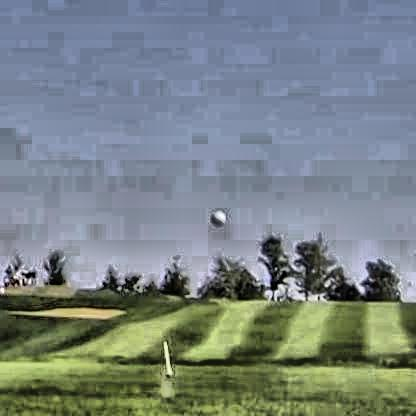golfball: (207, 206, 223, 225)
